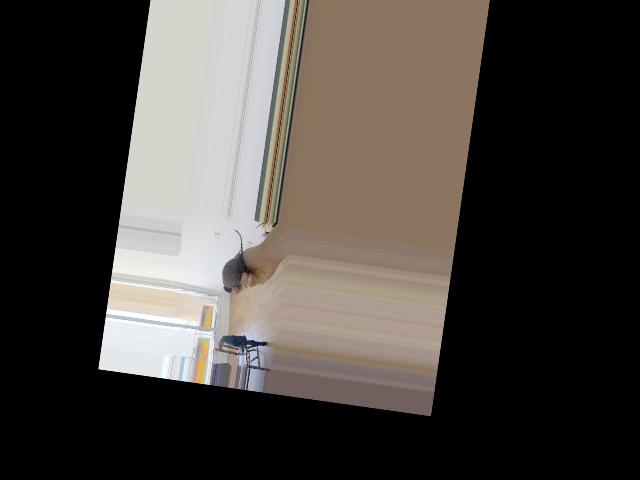beet: (219, 229, 249, 295)
